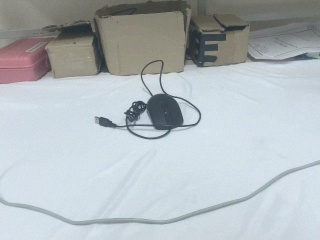box: (93, 1, 193, 76), (185, 12, 250, 67), (46, 21, 104, 79)
mouse: (146, 92, 184, 131)
